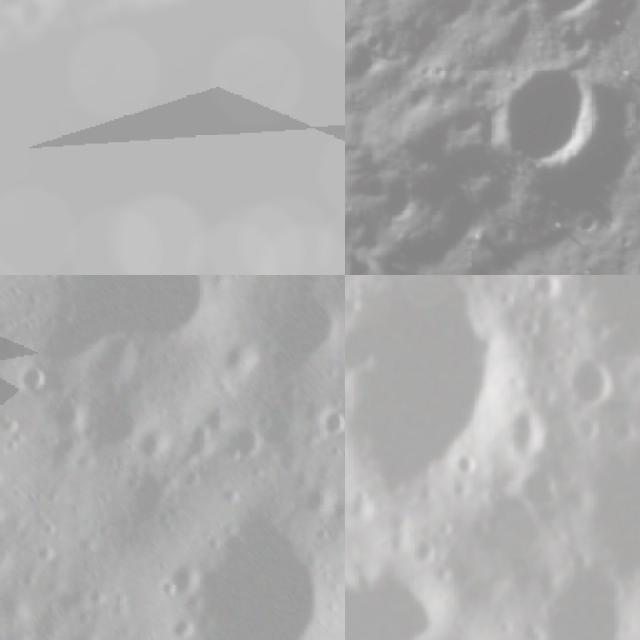crater: (345, 275, 547, 520), (1, 275, 269, 432), (155, 490, 345, 640), (476, 36, 627, 194), (224, 275, 345, 394), (358, 539, 471, 640), (518, 547, 640, 640), (577, 418, 640, 581), (63, 384, 151, 476), (109, 459, 182, 538), (557, 349, 624, 420), (512, 0, 631, 35), (512, 454, 574, 518), (215, 416, 276, 481), (212, 330, 270, 391), (39, 388, 97, 447), (156, 550, 212, 608), (290, 476, 344, 531), (6, 356, 58, 408), (525, 247, 619, 275), (126, 423, 174, 475), (212, 518, 258, 566), (523, 275, 577, 313), (309, 397, 345, 448), (25, 534, 65, 574), (323, 439, 345, 505), (158, 608, 203, 640), (302, 518, 338, 556), (12, 0, 52, 34), (176, 464, 212, 499), (326, 500, 345, 534), (0, 496, 14, 539)
